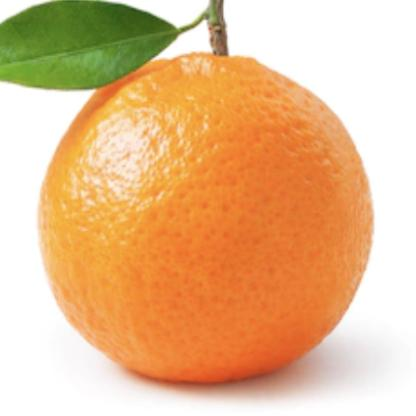fresh: (38, 50, 371, 386)
